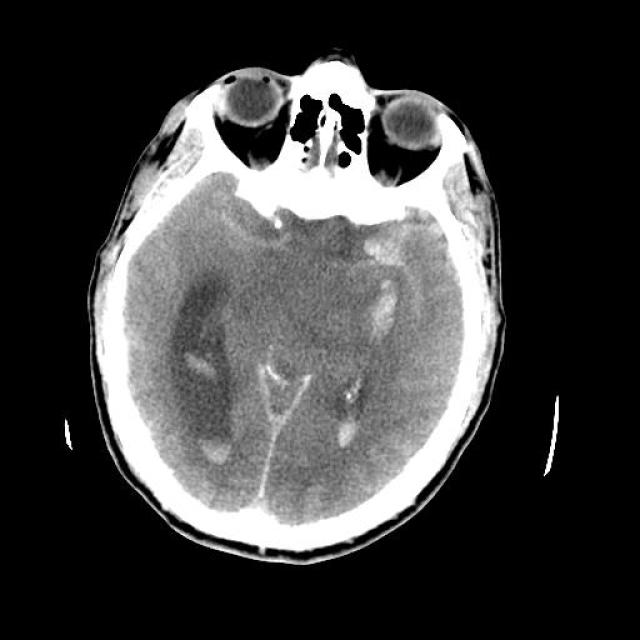Intraparenchymal: (358, 285, 420, 346), (346, 234, 419, 278)
Intraventricular: (184, 386, 246, 479), (328, 389, 388, 451)
Subdural: (228, 366, 320, 539)
